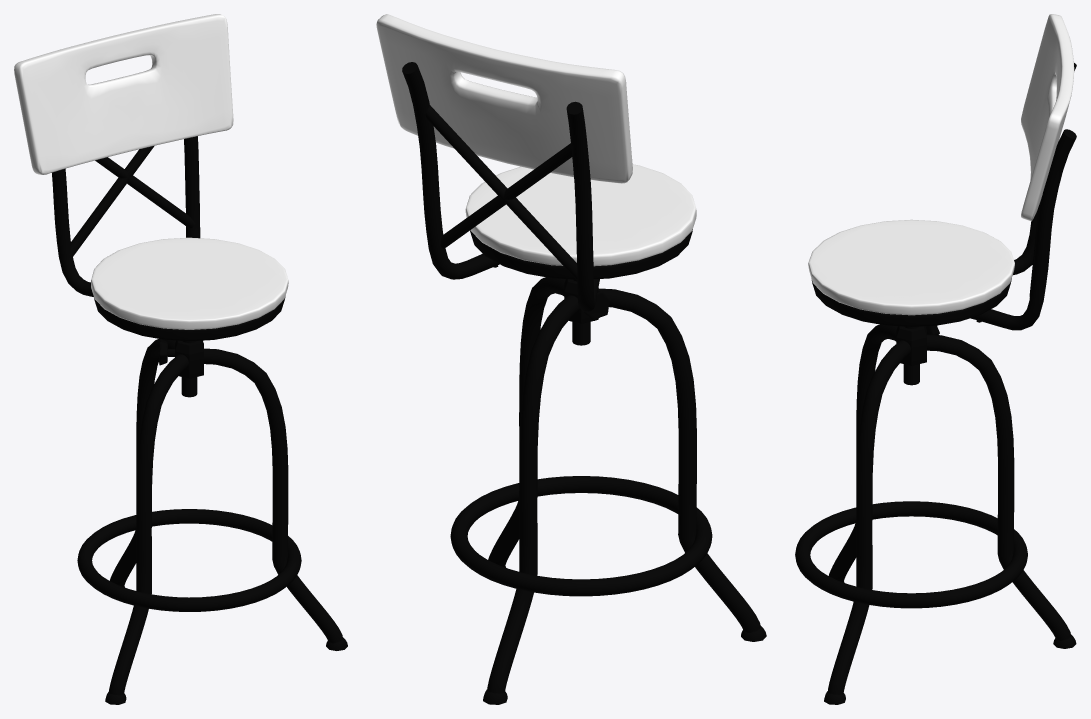
Rendered from uploads_files_4413812_bar_stool.glb.
The picture shows the model from 3 angles, left to right: view 1: azimuth 30°, elevation 25°; view 2: azimuth 150°, elevation 25°; view 3: azimuth 270°, elevation 25°; orthographic projection. The views are drawn at different scales.
Parts seen in each view (by area): view 1: Bar_Stool; view 2: Bar_Stool; view 3: Bar_Stool.
Boxes of the visible parts, x1=… form: Bar_Stool: x1=14, y1=14, x2=347, y2=704; Bar_Stool: x1=376, y1=14, x2=766, y2=704; Bar_Stool: x1=795, y1=14, x2=1076, y2=704.
Bounding box in the file's own units: 0.3804 × 0.847 × 0.3729.
2 materials, 1 textured.
